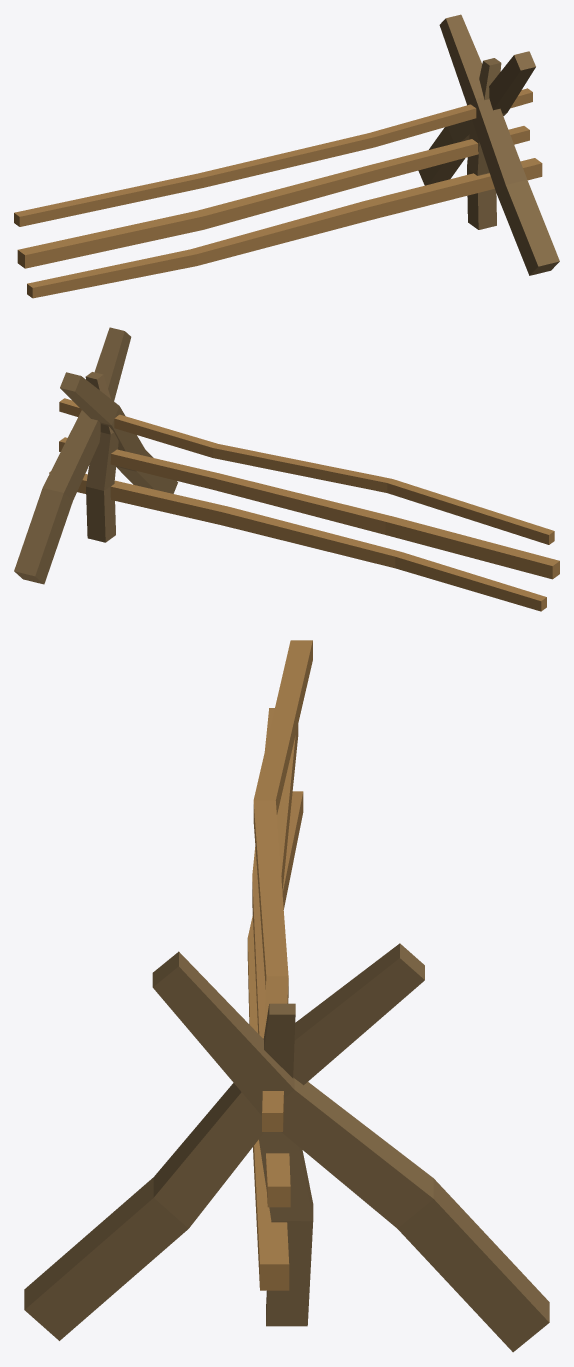
Rendered from Fence2_single.fbx.
3 views of the same model, one above another, from view 1: azimuth 30°, elevation 25°; view 2: azimuth 150°, elevation 25°; view 3: azimuth 270°, elevation 25° (orthographic). The views are drawn at different scales.
Visible parts, largest first — view 1: Fence2_single; view 2: Fence2_single; view 3: Fence2_single.
Part boxes in pixels (box(x1,y1,x2,y2)): Fence2_single: box(14, 14, 559, 298); Fence2_single: box(14, 327, 559, 611); Fence2_single: box(24, 640, 549, 1352).
Size of the model in its own units: 6.62 by 2.4 by 2.98.
Materials: 1 (1 with a texture image).
